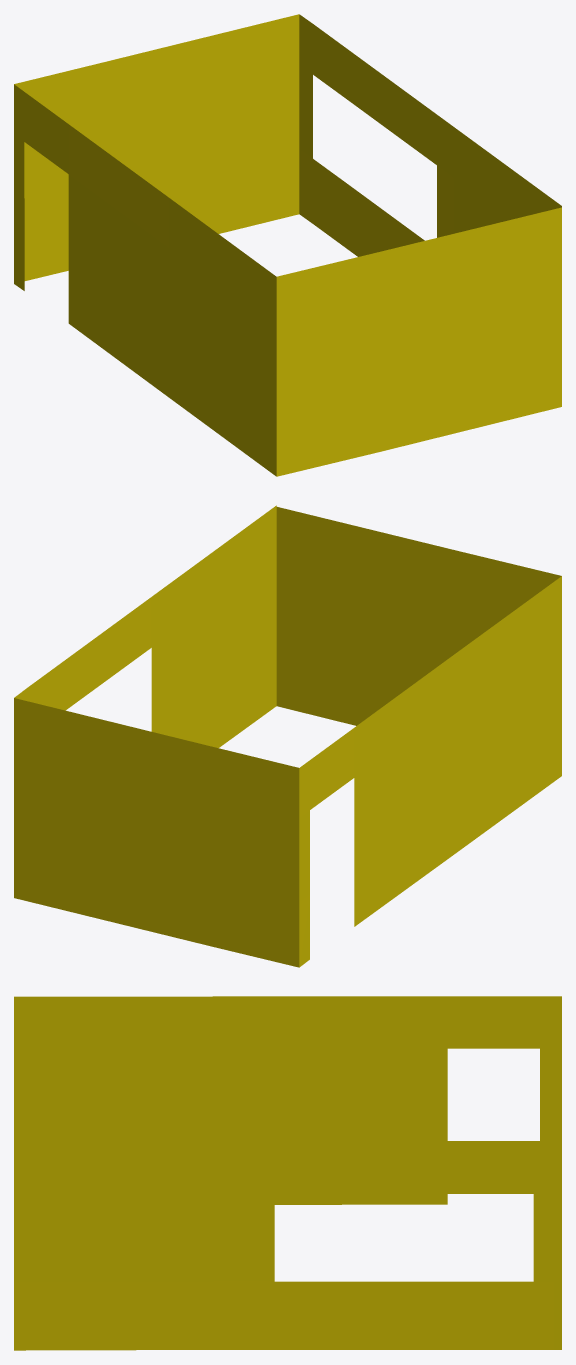
The picture shows the model from 3 angles, top to bottom: view 1: azimuth 30°, elevation 25°; view 2: azimuth 150°, elevation 25°; view 3: azimuth 270°, elevation 25°; orthographic projection. The views are drawn at different scales.
Parts seen in each view (by area): view 1: BH04_WP_03; view 2: BH04_WP_03; view 3: BH04_WP_03.
Part boxes in pixels (box(x1,y1,x2,y2)): BH04_WP_03: box(14, 14, 561, 476); BH04_WP_03: box(14, 505, 561, 967); BH04_WP_03: box(14, 996, 561, 1350).
Bounding box in the file's own units: 448 × 302 × 714.
